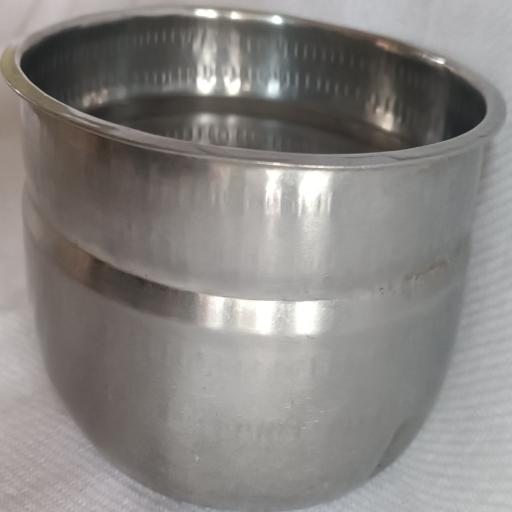vessel: (1, 6, 506, 510)
